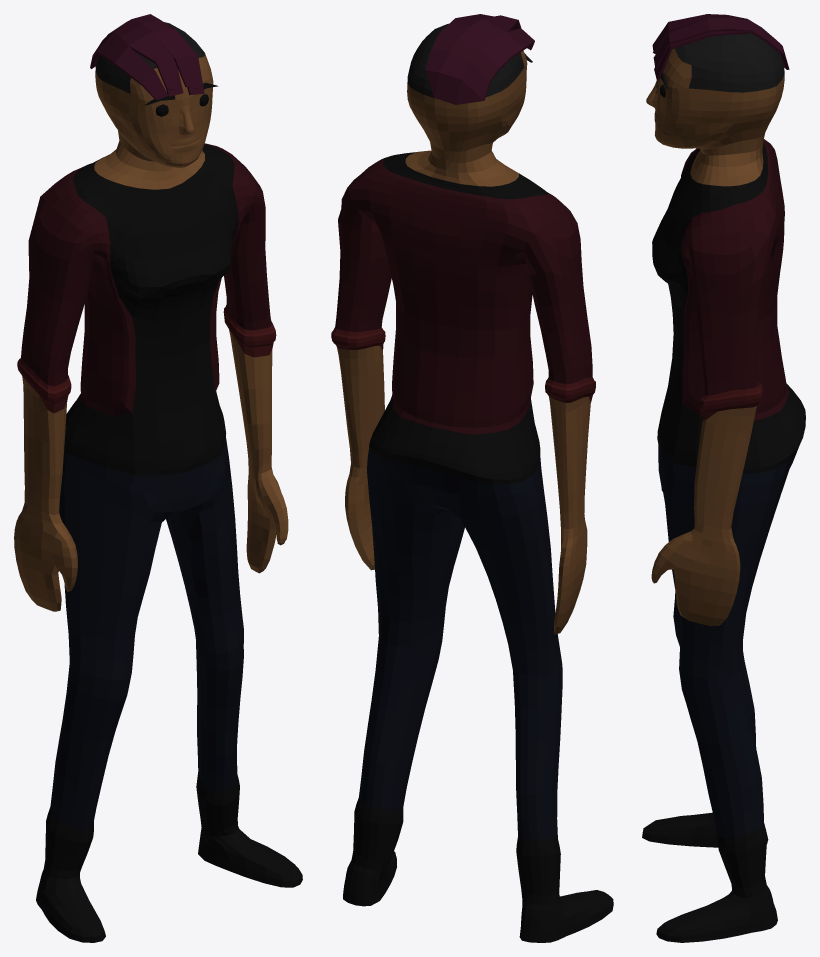
The model's file is Smooth_Female_Alternative.obj.
The picture shows the model from 3 angles, left to right: view 1: azimuth 30°, elevation 25°; view 2: azimuth 150°, elevation 25°; view 3: azimuth 270°, elevation 25°; orthographic projection. The views are drawn at different scales.
Visible parts, largest first — view 1: Female_Cylinder.006; view 2: Female_Cylinder.006; view 3: Female_Cylinder.006.
Part boxes in pixels (x1,y1,x2,y2): Female_Cylinder.006: (14, 14, 302, 942); Female_Cylinder.006: (331, 14, 613, 942); Female_Cylinder.006: (642, 14, 805, 942).
Size of the model in its own units: 1.38 by 4.62 by 0.7967.
